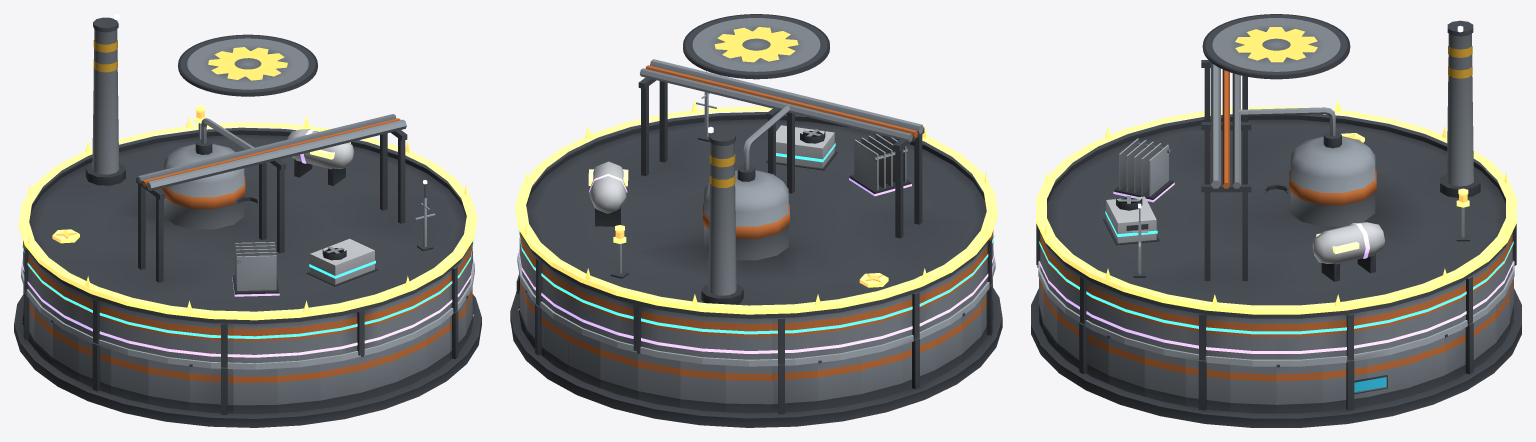
File: polymer_plant_s.glb
The picture shows the model from 3 angles, left to right: view 1: azimuth 30°, elevation 25°; view 2: azimuth 150°, elevation 25°; view 3: azimuth 270°, elevation 25°; orthographic projection. The views are drawn at different scales.
Parts seen in each view (by area): view 1: Roof, Base, L4, L3, Wall_20, Wall_21, Wall_22, Wall_19, Wall_23, Wall_18, Wall_24, Upper_20 (+26 smaller); view 2: Roof, Base, L4, Wall_10, Wall_11, Wall_09, Wall_12, Wall_08, L3, Wall_13, Wall_07, Upper_11 (+30 smaller); view 3: Roof, Base, L4, L3, Wall_00, Wall_31, Wall_30, Wall_01, Wall_29, Wall_28, Wall_03, Upper_00 (+30 smaller).
Part boxes in pixels (x1,y1,x2,y2): Roof: (26, 14, 471, 324); Base: (14, 294, 481, 427); L4: (232, 129, 354, 296); L3: (236, 196, 378, 286); Wall_20: (189, 364, 233, 414); Wall_21: (233, 368, 277, 414); Wall_22: (277, 364, 320, 412); Wall_19: (148, 359, 189, 410); Wall_23: (320, 356, 360, 408); Wall_18: (110, 350, 148, 403); Wall_24: (360, 346, 396, 400); Upper_20: (190, 320, 233, 367); Roof: (520, 14, 989, 318); Base: (510, 288, 1002, 427); L4: (588, 134, 911, 226); Wall_10: (725, 365, 771, 413); Wall_11: (772, 363, 817, 414); Wall_09: (680, 361, 725, 412); Wall_12: (818, 356, 861, 409); Wall_08: (637, 351, 680, 407); L3: (766, 125, 837, 170); Wall_13: (861, 345, 900, 402); Wall_07: (600, 341, 637, 399); Upper_11: (772, 315, 817, 364); Roof: (1046, 14, 1506, 318); Base: (1031, 288, 1521, 427); L4: (1113, 138, 1384, 281); L3: (1103, 184, 1289, 245); Wall_00: (1276, 364, 1322, 413); Wall_31: (1230, 364, 1276, 413); Wall_30: (1185, 359, 1230, 411); Wall_01: (1322, 359, 1367, 411); Wall_29: (1144, 350, 1185, 405); Wall_28: (1107, 335, 1144, 396); Wall_03: (1408, 337, 1444, 396); Upper_00: (1276, 317, 1322, 359).
Bounding box in the file's own units: 11.74 × 7.38 × 11.74.
